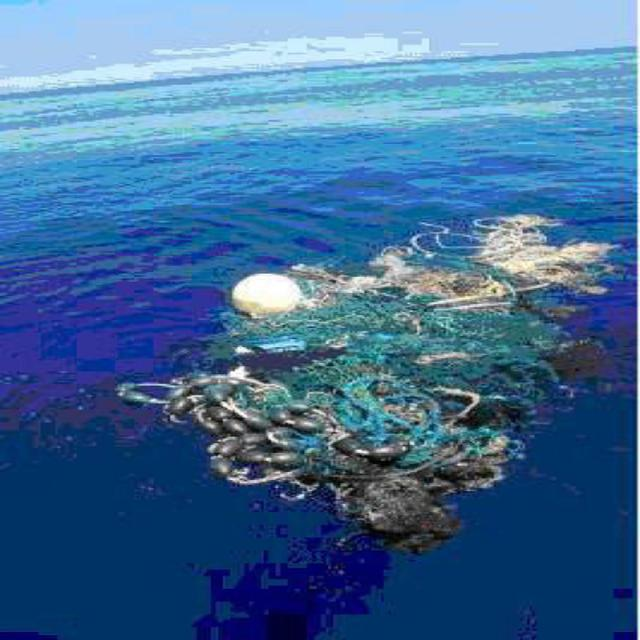plastic watse: (118, 215, 612, 551)
